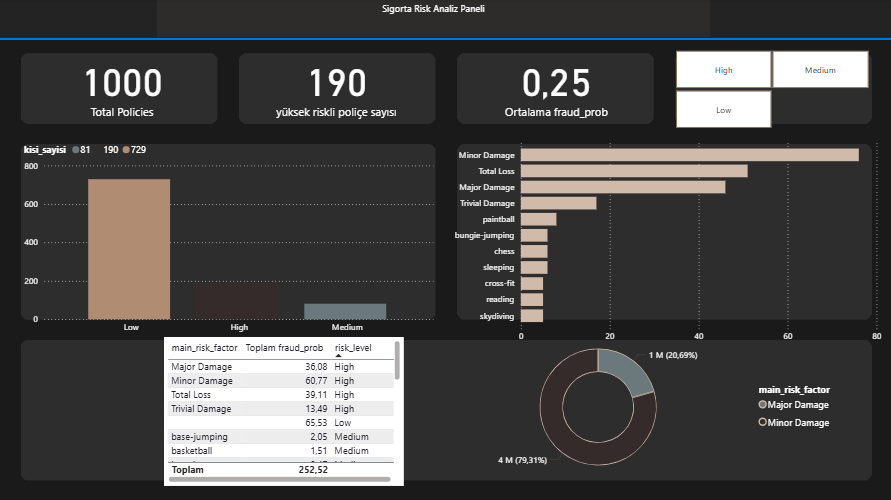

This screenshot's page, from the dashboard's own definition file:
{"tool":"powerbi","page":{"name":"1. sayfa","canvas":[1280,720],"ordinal":0},"visuals":[{"type":"card","fields":{"Values":["Sum(insurance_risk.policy_number)"]},"box":[36.9,66.6,280.6,112],"z":0},{"type":"columnChart","fields":{"Category":["Risk seviyesi dağılım.risk_level"],"Y":["Count(insurance_risk.policy_number)"],"Series":["Risk seviyesi dağılım.kisi_sayisi"]},"box":[37.2,200.2,586.4,283.2],"z":1},{"type":"card","fields":{"Values":["Avg(insurance_risk.fraud_prob)"]},"box":[640.7,54.3,316.1,137.3],"z":2},{"type":"card","fields":{"Values":["Count(Sorgu1.policy_number)"]},"box":[327.5,50.1,313.2,145.9],"z":3},{"type":"slicer","fields":{"Values":["Risk seviyesi dağılım.risk_level"]},"box":[943.9,67.2,324.6,124.4],"z":4},{"type":"barChart","fields":{"Category":["hasar durumuna göre.main_risk_factor"],"Y":["Sum(hasar durumuna göre.kisi_sayısı)"]},"box":[640.7,191.6,627.8,308.9],"z":5},{"type":"donutChart","fields":{"Y":["Sum(En acil.policy_number)"],"Series":["En acil.main_risk_factor"]},"box":[623.6,470.5,586.4,226],"z":6},{"type":"tableEx","fields":{"Values":["insurance_risk.main_risk_factor","Sum(insurance_risk.fraud_prob)","insurance_risk.risk_level"]},"box":[237.4,483.4,343.2,213.1],"z":7},{"type":"textbox","box":[227.4,0,790.9,54.3],"z":8}]}

Visuals, with their boxes in screenshot pixels (x1, y1, x2, y2), scaled from the page's 1280x720 canvas onto the 891x500 screenshot:
card - Sum(insurance_risk.policy_number): [left=26, top=46, right=221, bottom=124]
columnChart - Risk seviyesi dağılım.risk_level x Count(insurance_risk.policy_number): [left=26, top=139, right=434, bottom=336]
card - Avg(insurance_risk.fraud_prob): [left=446, top=38, right=666, bottom=133]
card - Count(Sorgu1.policy_number): [left=228, top=35, right=446, bottom=136]
slicer - Risk seviyesi dağılım.risk_level: [left=657, top=47, right=883, bottom=133]
barChart - hasar durumuna göre.main_risk_factor x Sum(hasar durumuna göre.kisi_sayısı): [left=446, top=133, right=883, bottom=348]
donutChart - Sum(En acil.policy_number) x En acil.main_risk_factor: [left=434, top=327, right=842, bottom=484]
tableEx - insurance_risk.main_risk_factor x Sum(insurance_risk.fraud_prob): [left=165, top=336, right=404, bottom=484]
textbox: [left=158, top=0, right=709, bottom=38]
